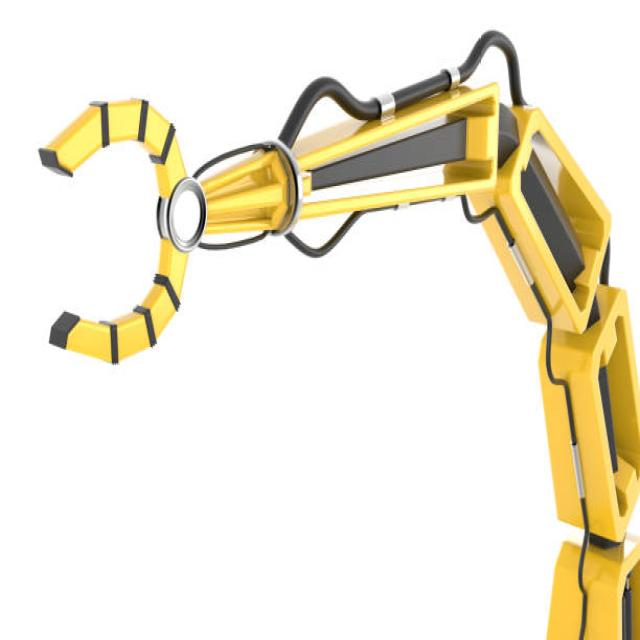Robotic-arm: (29, 21, 640, 640)
